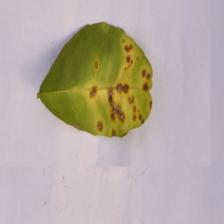canker: (94, 20, 159, 146)
